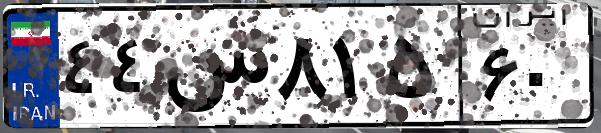0: (525, 38, 570, 115)
1: (330, 28, 385, 110)
4: (57, 26, 110, 100), (110, 28, 158, 98)
5: (385, 28, 445, 110)
6: (475, 38, 525, 113)
8: (270, 28, 330, 110)
س: (158, 20, 270, 120)
